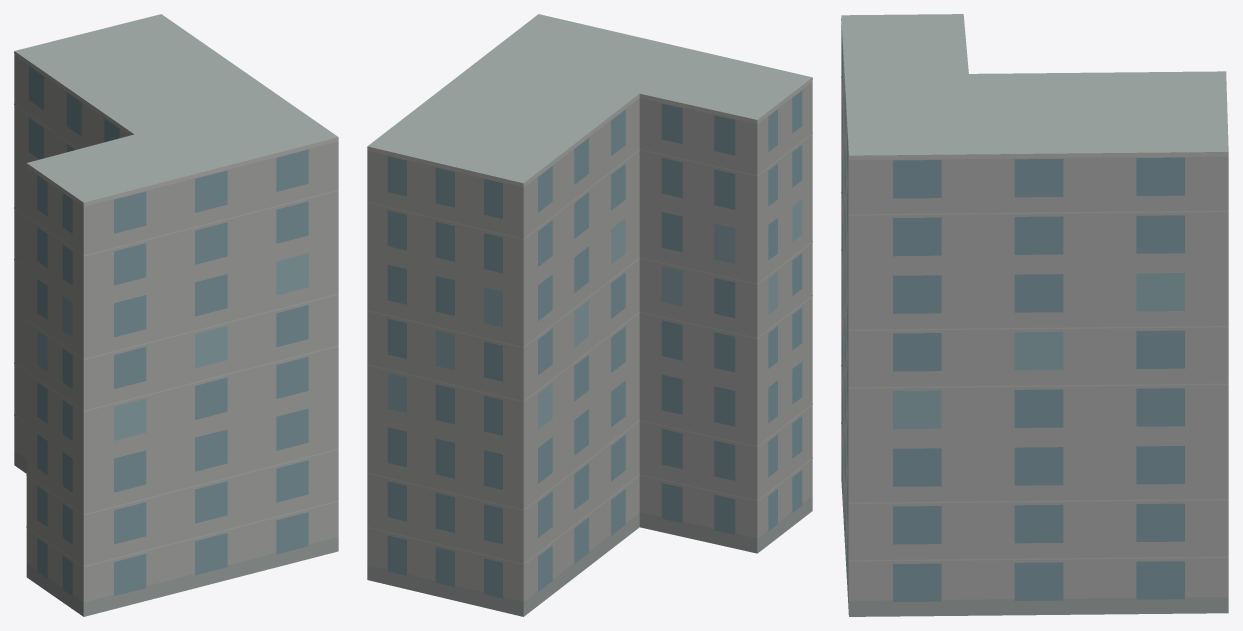
File: survey-upis-32685310.glb
3 views of the same model, side by side, from view 1: azimuth 30°, elevation 25°; view 2: azimuth 150°, elevation 25°; view 3: azimuth 270°, elevation 25° (orthographic). The views are drawn at different scales.
Visible parts, largest first — view 1: survey-upis-32685310.tmp; view 2: survey-upis-32685310.tmp; view 3: survey-upis-32685310.tmp.
Part boxes in pixels (x1,y1,x2,y2): survey-upis-32685310.tmp: [14, 14, 338, 616]; survey-upis-32685310.tmp: [367, 14, 812, 616]; survey-upis-32685310.tmp: [841, 14, 1228, 616].
Bounding box in the file's own units: 16.09 × 24.4 × 18.6.
